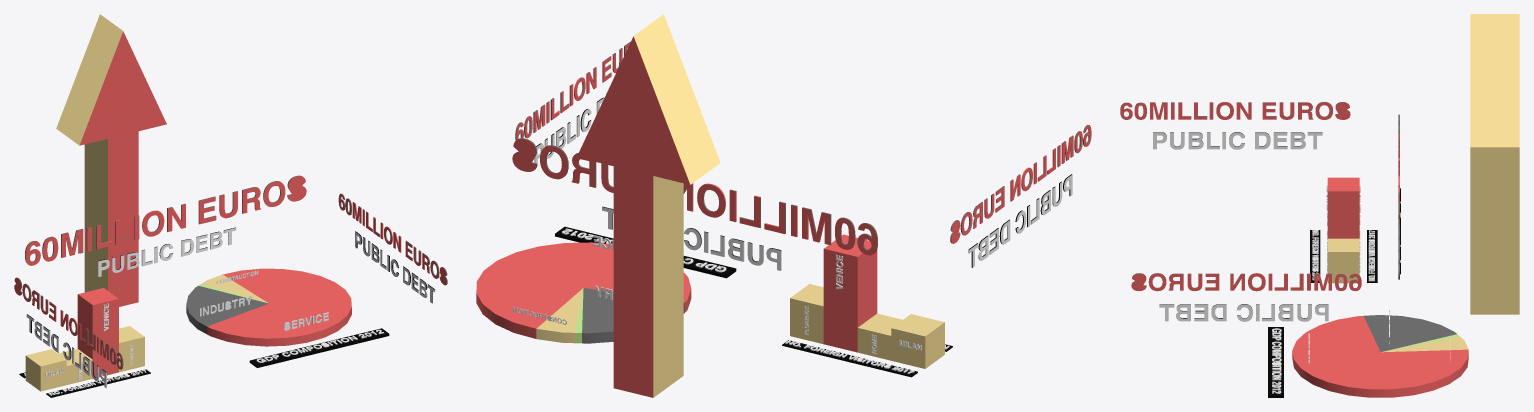
File: ECONOMY VENICE.obj
The picture shows the model from 3 angles, left to right: view 1: azimuth 30°, elevation 25°; view 2: azimuth 150°, elevation 25°; view 3: azimuth 270°, elevation 25°; orthographic projection. The views are drawn at different scales.
Visible parts, largest first — view 1: Mesh102 Group14 Model, Mesh97 Group9 Model, Mesh3 Group3 Model, Mesh98 Group10 Model, Mesh1 Group1 Model, Mesh101 Group13 Model, Mesh4 Group4 Model, Mesh2 Group2 Model, Mesh100 Group12 Model, Mesh160 G_60MILLION_EUROS1 Model, Mesh5 Group6 Group5 Model, Mesh171 G_60MILLION_EUROS1 Model; view 2: Mesh102 Group14 Model, Mesh97 Group9 Model, Mesh3 Group3 Model, Mesh1 Group1 Model, Mesh4 Group4 Model, Mesh98 Group10 Model, Mesh2 Group2 Model, Mesh100 Group12 Model, Mesh101 Group13 Model, Mesh160 G_60MILLION_EUROS1 Model, Mesh51 Group8 Group7 Model, Mesh171 G_60MILLION_EUROS1 Model (+2 smaller); view 3: Mesh102 Group14 Model, Mesh97 Group9 Model, Mesh98 Group10 Model, Mesh3 Group3 Model, Mesh4 Group4 Model, Mesh101 Group13 Model, Mesh100 Group12 Model, Mesh51 Group8 Group7 Model, Mesh5 Group6 Group5 Model.
Boxes of the visible parts, x1,y1,x2,y2 form: Mesh102 Group14 Model: [56, 14, 166, 306]; Mesh97 Group9 Model: [207, 268, 351, 346]; Mesh3 Group3 Model: [77, 288, 118, 378]; Mesh98 Group10 Model: [186, 285, 268, 333]; Mesh1 Group1 Model: [25, 349, 66, 391]; Mesh101 Group13 Model: [249, 328, 389, 367]; Mesh4 Group4 Model: [119, 326, 144, 372]; Mesh2 Group2 Model: [58, 348, 92, 384]; Mesh100 Group12 Model: [201, 274, 268, 303]; Mesh160 G_60MILLION_EUROS1 Model: [61, 228, 83, 257]; Mesh5 Group6 Group5 Model: [46, 369, 150, 397]; Mesh171 G_60MILLION_EUROS1 Model: [287, 175, 306, 201]; Mesh102 Group14 Model: [577, 14, 720, 397]; Mesh97 Group9 Model: [476, 242, 691, 338]; Mesh3 Group3 Model: [823, 234, 877, 352]; Mesh1 Group1 Model: [891, 314, 944, 368]; Mesh4 Group4 Model: [790, 284, 823, 344]; Mesh98 Group10 Model: [582, 288, 684, 343]; Mesh2 Group2 Model: [857, 313, 902, 360]; Mesh100 Group12 Model: [536, 288, 583, 343]; Mesh101 Group13 Model: [555, 226, 736, 278]; Mesh160 G_60MILLION_EUROS1 Model: [802, 207, 831, 245]; Mesh51 Group8 Group7 Model: [782, 340, 917, 377]; Mesh171 G_60MILLION_EUROS1 Model: [512, 138, 537, 171]; Mesh102 Group14 Model: [1470, 14, 1519, 314]; Mesh97 Group9 Model: [1292, 316, 1468, 397]; Mesh98 Group10 Model: [1364, 315, 1456, 351]; Mesh3 Group3 Model: [1327, 177, 1359, 238]; Mesh4 Group4 Model: [1327, 238, 1359, 283]; Mesh101 Group13 Model: [1268, 327, 1283, 397]; Mesh100 Group12 Model: [1381, 336, 1468, 352]; Mesh51 Group8 Group7 Model: [1367, 230, 1377, 282]; Mesh5 Group6 Group5 Model: [1310, 230, 1320, 282].
Bounding box in the file's own units: 130928 × 101629 × 124706.
